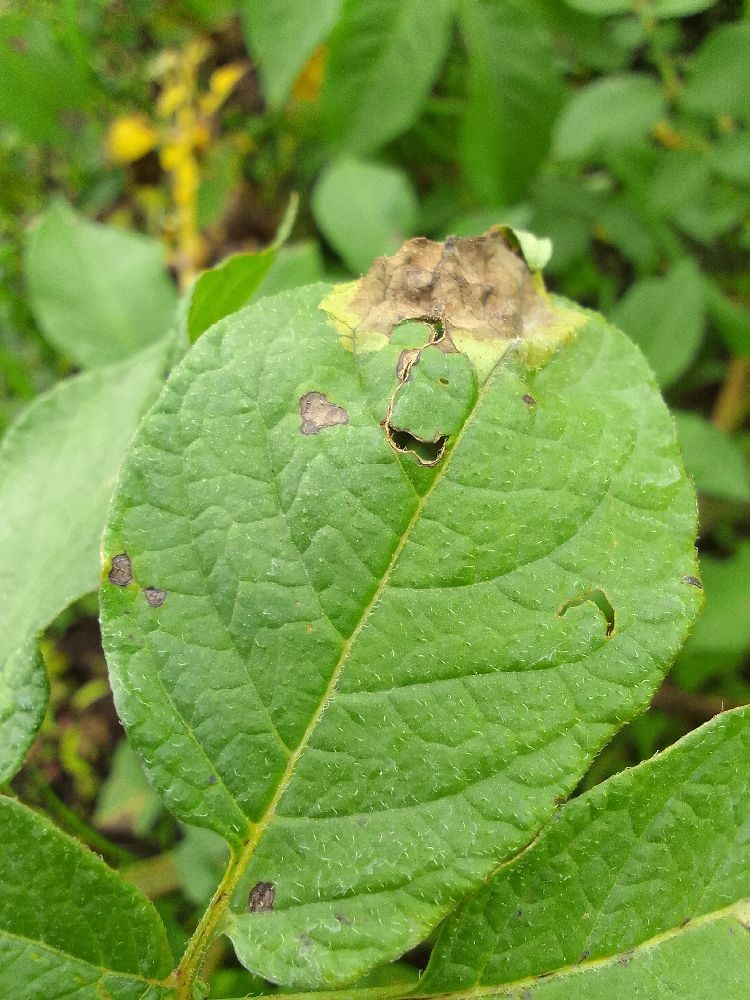late_blight: (82, 0, 301, 306), (0, 567, 200, 902), (328, 202, 582, 377), (650, 334, 750, 448)
